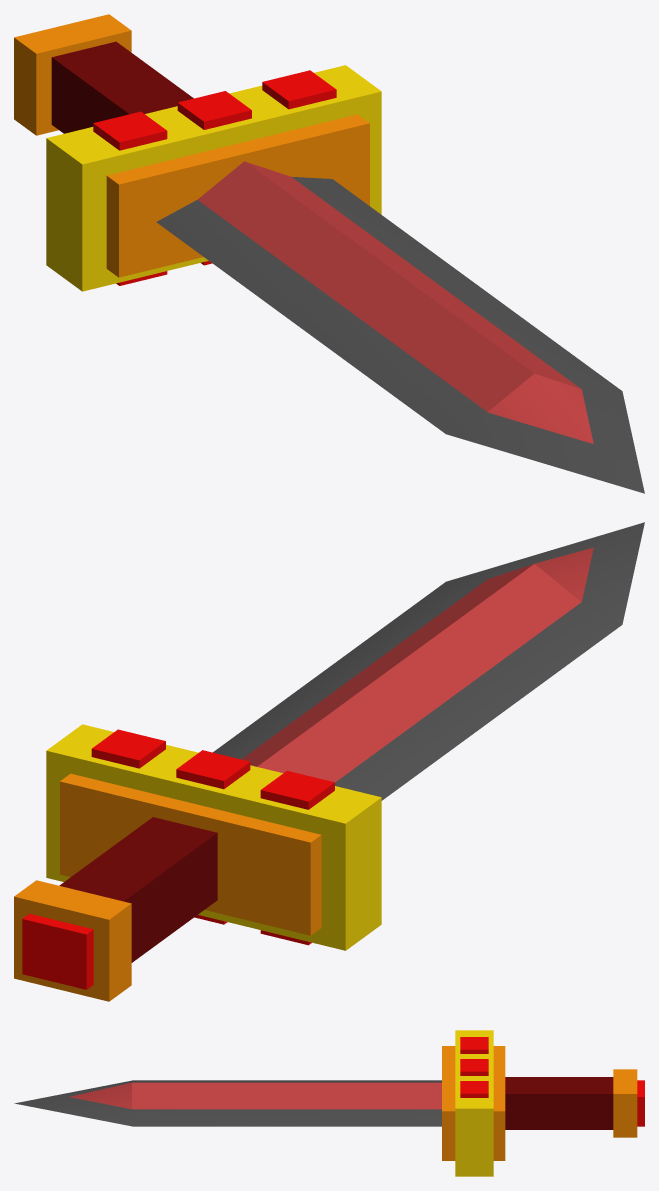
Rendered from Sword 05.FBX.
3 views of the same model, one above another, from view 1: azimuth 30°, elevation 25°; view 2: azimuth 150°, elevation 25°; view 3: azimuth 270°, elevation 25° (orthographic). The views are drawn at different scales.
Parts seen in each view (by area): view 1: Sword 05; view 2: Sword 05; view 3: Sword 05.
Boxes of the visible parts, <box> form: Sword 05: <box>14,14,644,493</box>; Sword 05: <box>14,522,644,1001</box>; Sword 05: <box>14,1030,644,1176</box>.
Size of the model in its own units: 23.98 by 11 by 81.92.
